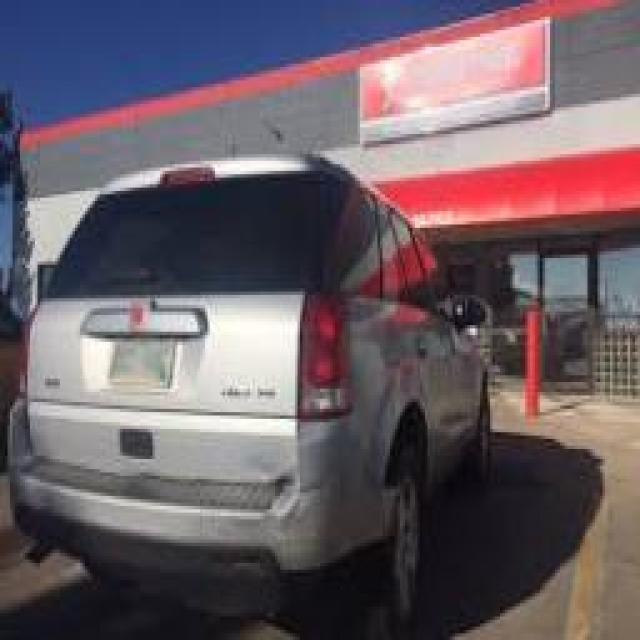Bumper: (259, 452, 409, 578)
